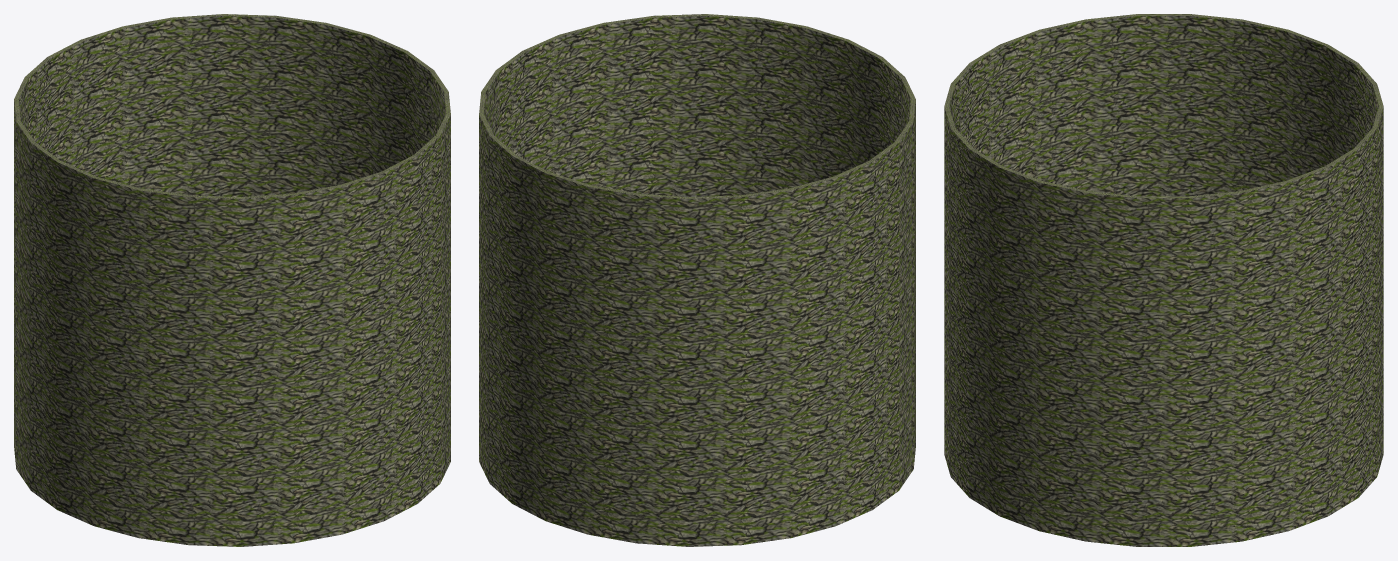
Rendered from Room.FBX.
The picture shows the model from 3 angles, left to right: view 1: azimuth 30°, elevation 25°; view 2: azimuth 150°, elevation 25°; view 3: azimuth 270°, elevation 25°; orthographic projection.
Visible parts, largest first — view 1: Tube001; view 2: Tube001; view 3: Tube001.
Part boxes in pixels (left/top/right/bottom): Tube001: left=14, top=14, right=450, bottom=546; Tube001: left=479, top=14, right=915, bottom=546; Tube001: left=944, top=14, right=1383, bottom=546.
Size of the model in its own units: 67.26 by 59.35 by 67.75.
